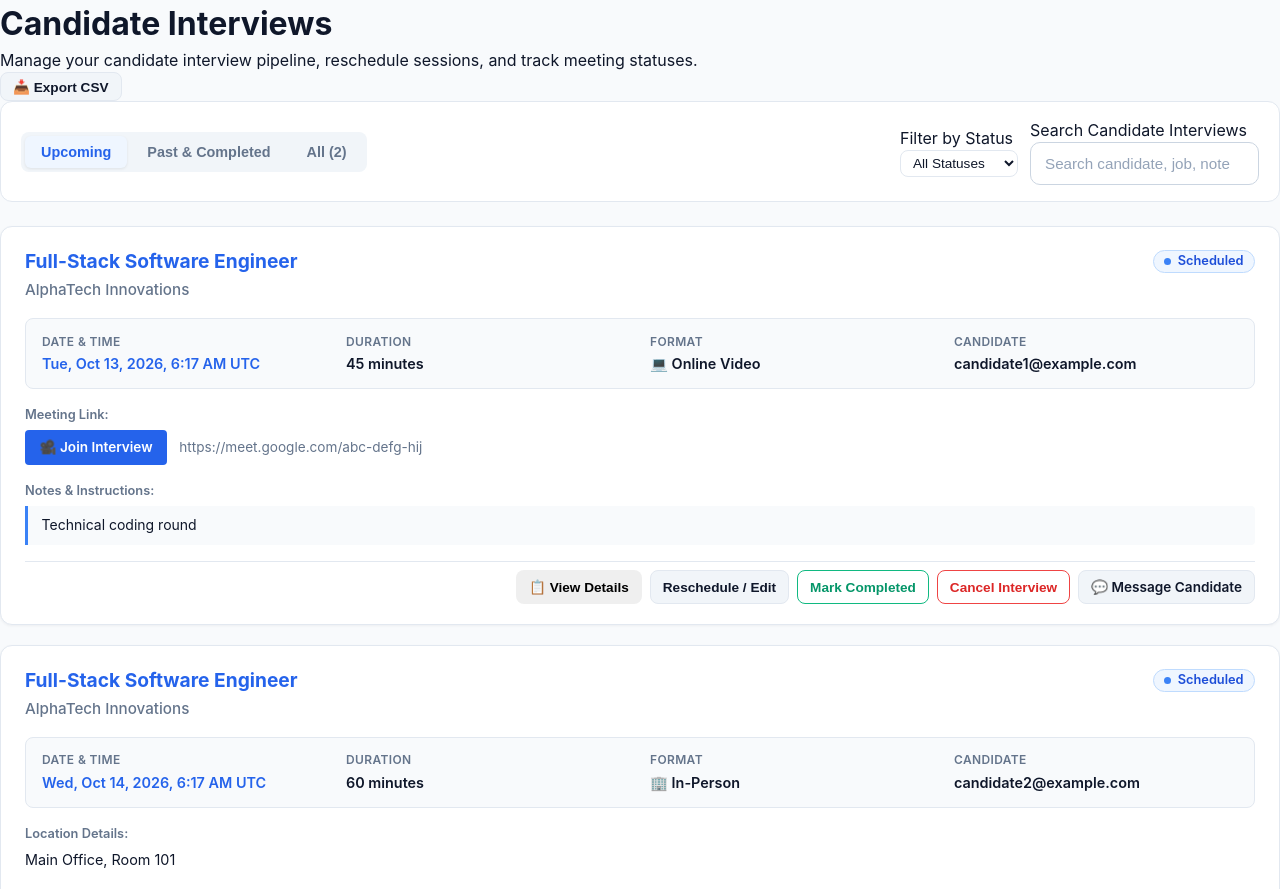
Test case: RecruiterInterviewsPage Component › opens reschedule modal and updates interview upon submit
This screenshot has width=1280, height=889.
Expected: the text "candidate1@example.com" is shown, [954,355,1136,372]
Click the button "Reschedule / Edit" at {"x": 719, "y": 587}, box [650,570,789,604]
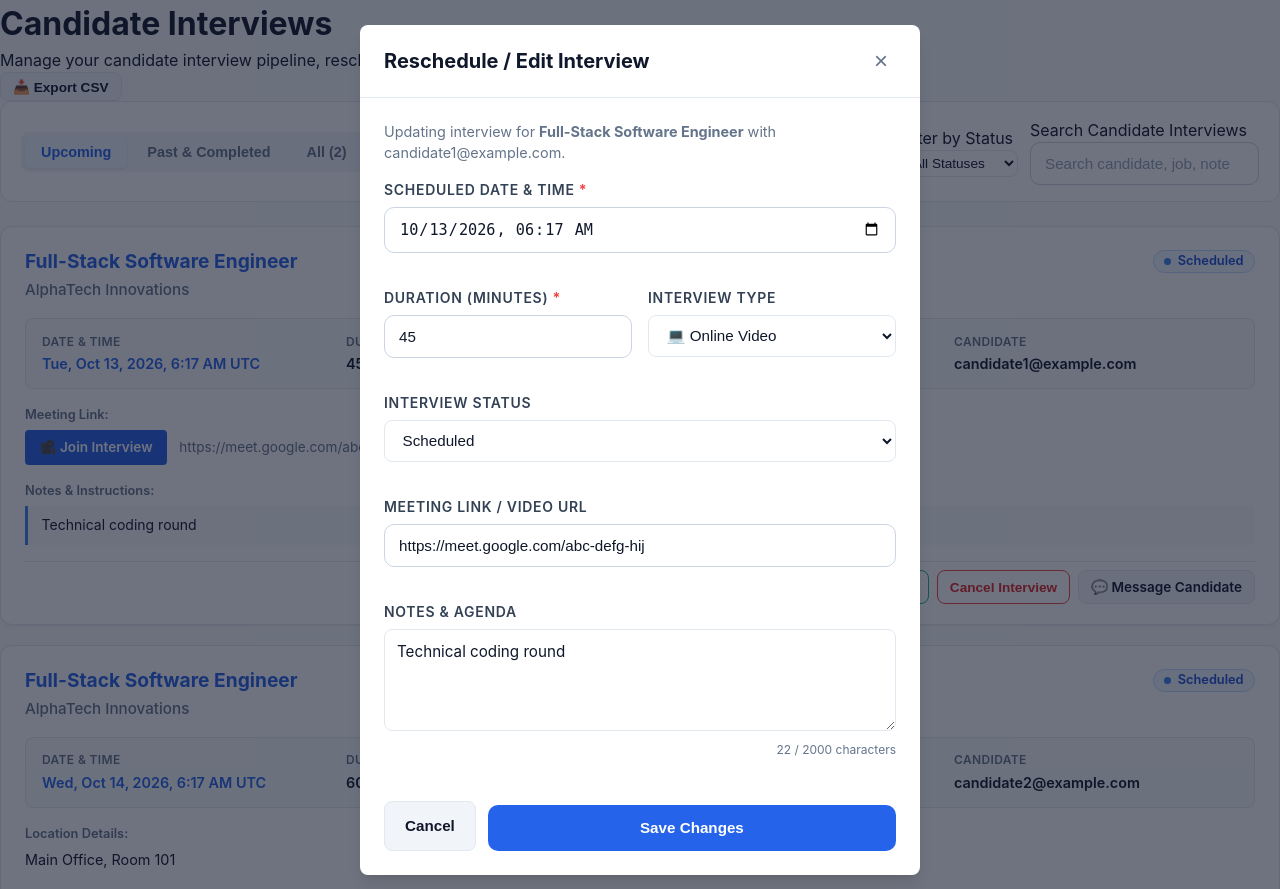
Expected: the dialog with test id "reschedule-interview-modal" is shown, [360,26,920,875]
Replace the text in the number field labelled "Duration (Minutes) *" with "90" at {"x": 508, "y": 336}, box [384,315,632,358]
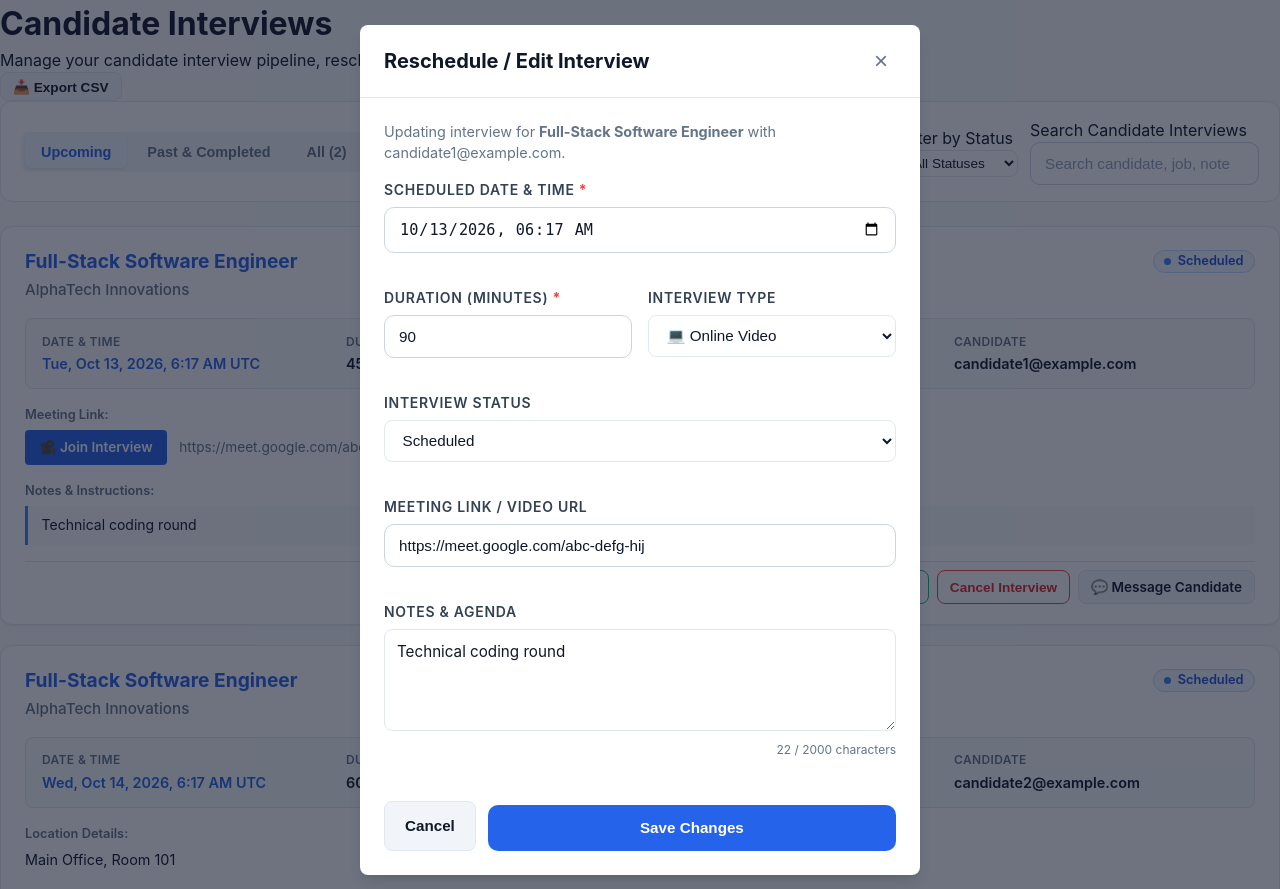
Click the button with test id "submit-update-interview-btn" at {"x": 692, "y": 828}, box [488,804,896,850]
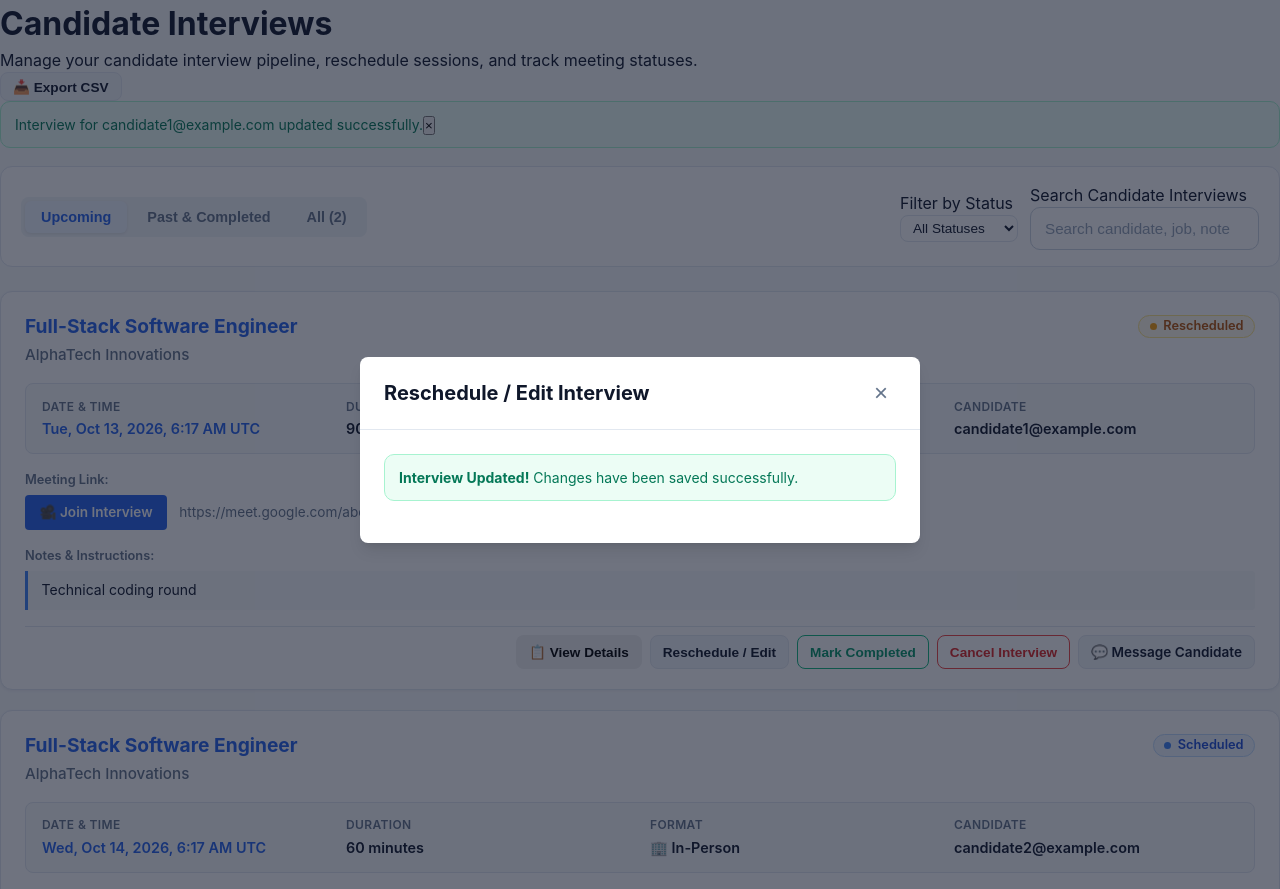
Expected: the text "Interview for candidate1@example.com updated successfully." is shown, [15,116,423,133]
